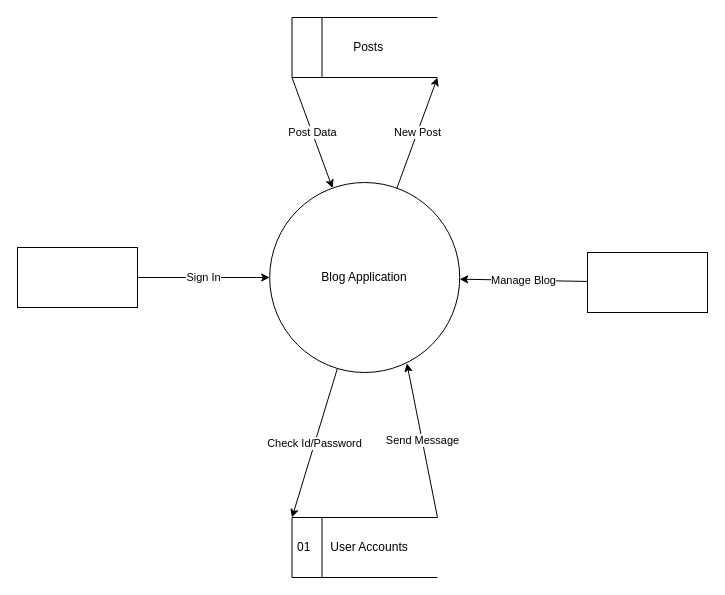
Image size: 725x595. Some labels were removed from this diagram. Here are the shapes that lost their labels. From the top down, the box of each, then its label:
(16, 246, 138, 308): User
(586, 252, 708, 312): Admin
